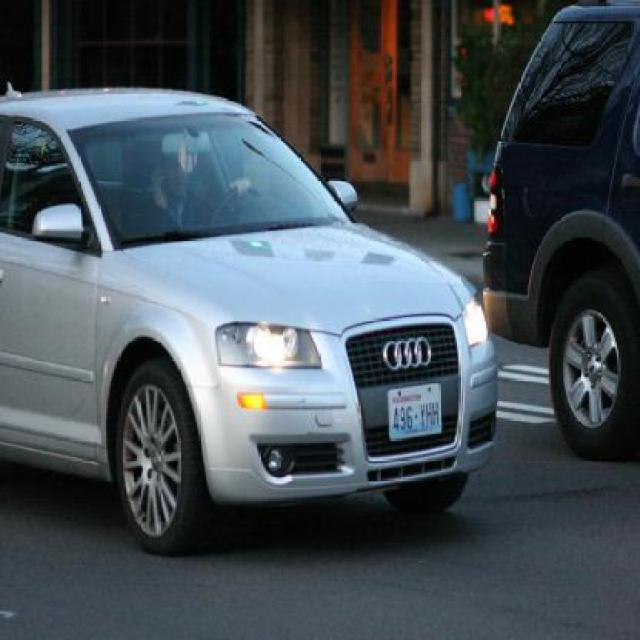License-Plates: (385, 380, 445, 445)
